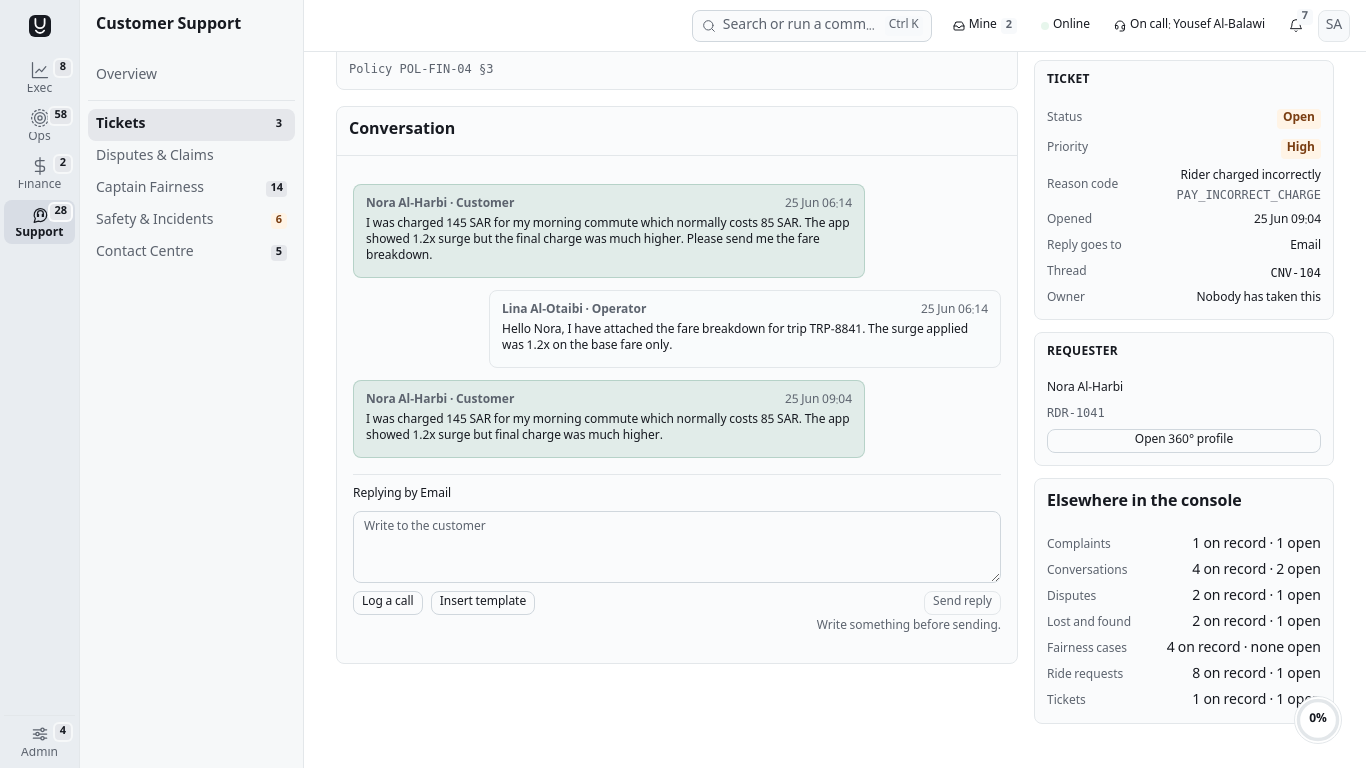
Scenario: a logged call is recorded rather than toasted › disables the primary with a reason until the operator says what happened
(page scrolled)
expect the text "Conversation" is shown: met, box x1=349 y1=117 x2=455 y2=144
Click the button "Log a call": point(388, 603) x1=353 y1=591 x2=423 y2=615
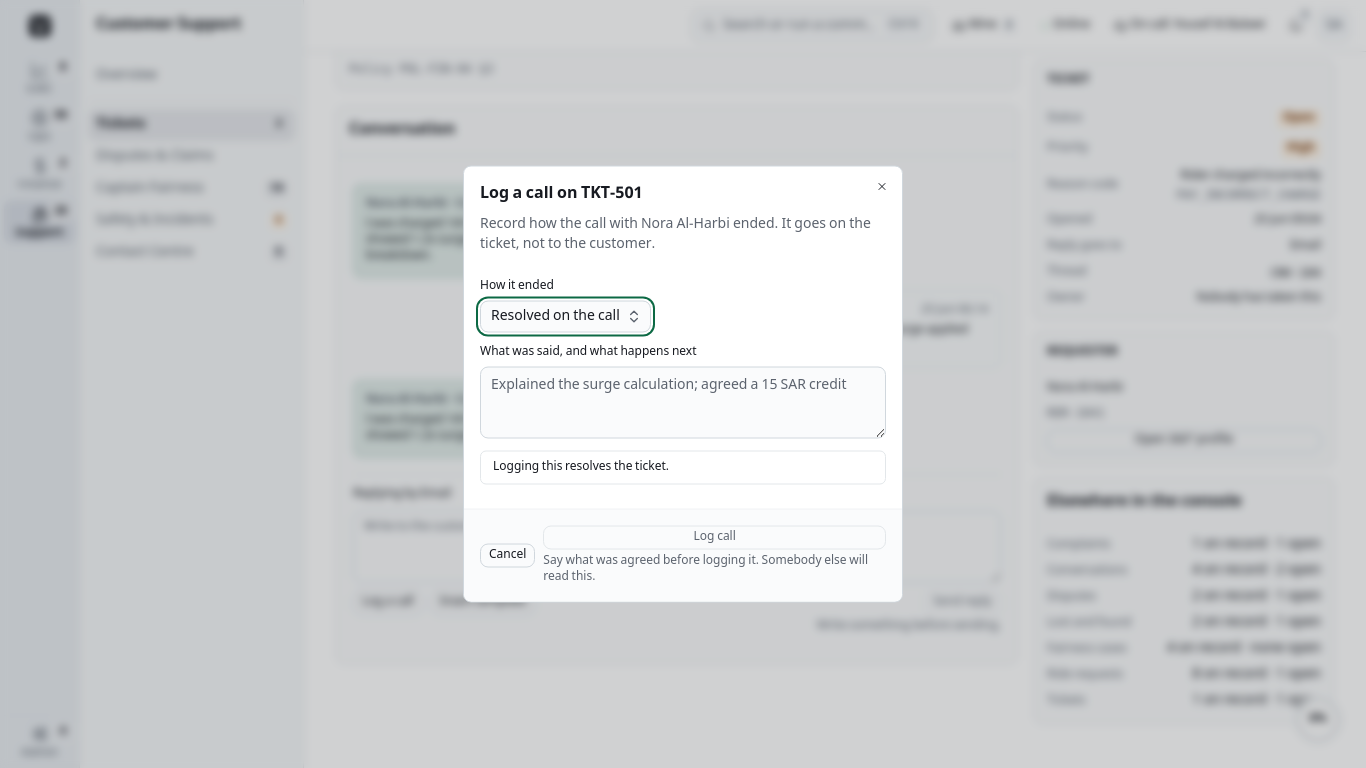
expect the button "Log call" is disabled: met, box x1=543 y1=526 x2=886 y2=550
expect the text "Say what was agreed before logging it. Somebody else will read this." is shown: met, box x1=543 y1=554 x2=886 y2=586
